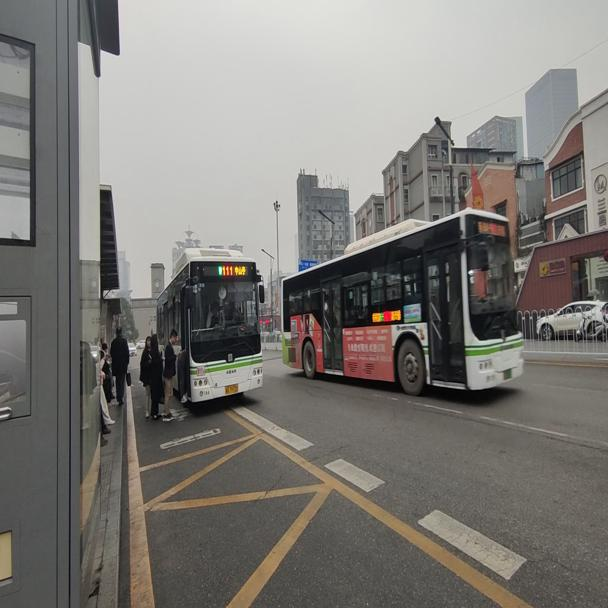bus: (280, 207, 524, 391), (154, 247, 264, 403)
screen: (220, 262, 234, 279)
